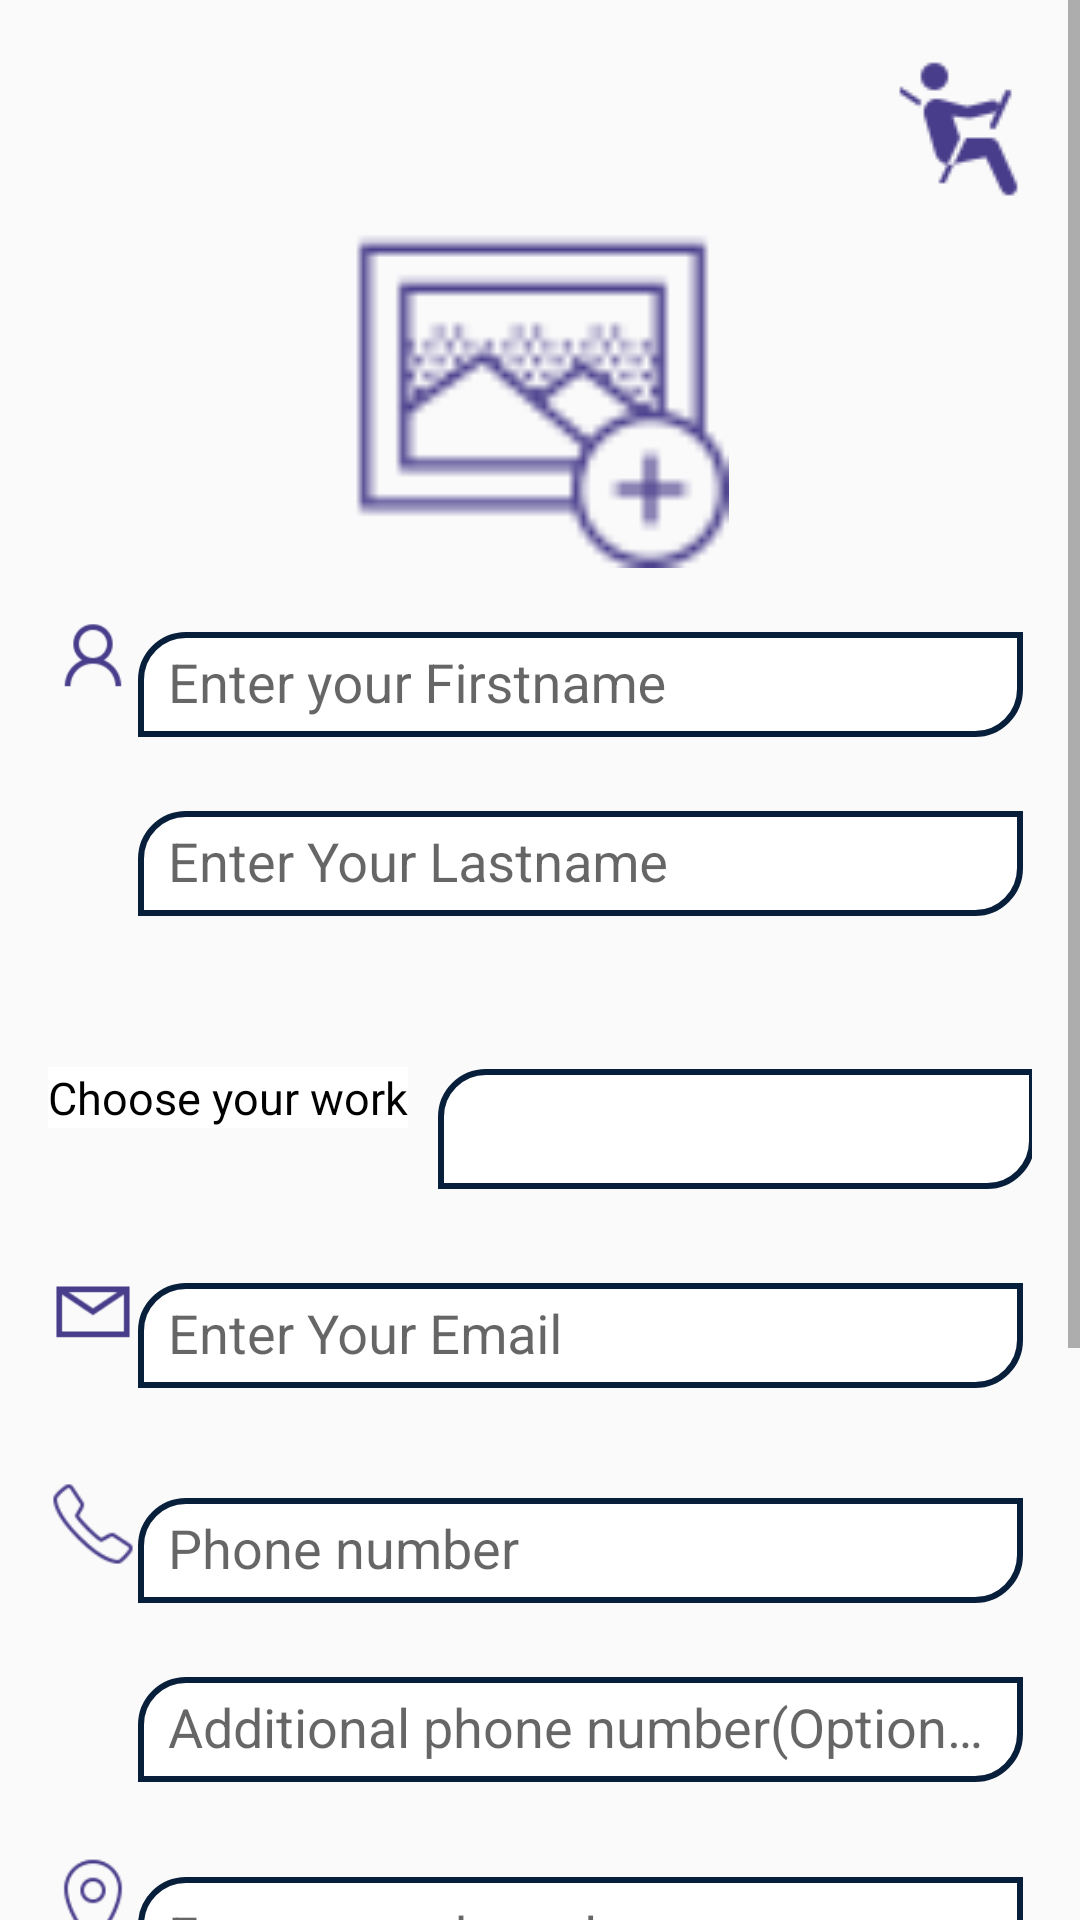

Screen size 1080*1920. Icon name, then its box in pixels as [x1, y1, x2, y2]:
driving: [899, 62, 1018, 196]
emails: [56, 1286, 130, 1338]
persons: [64, 624, 122, 687]
phones: [53, 1484, 133, 1564]
